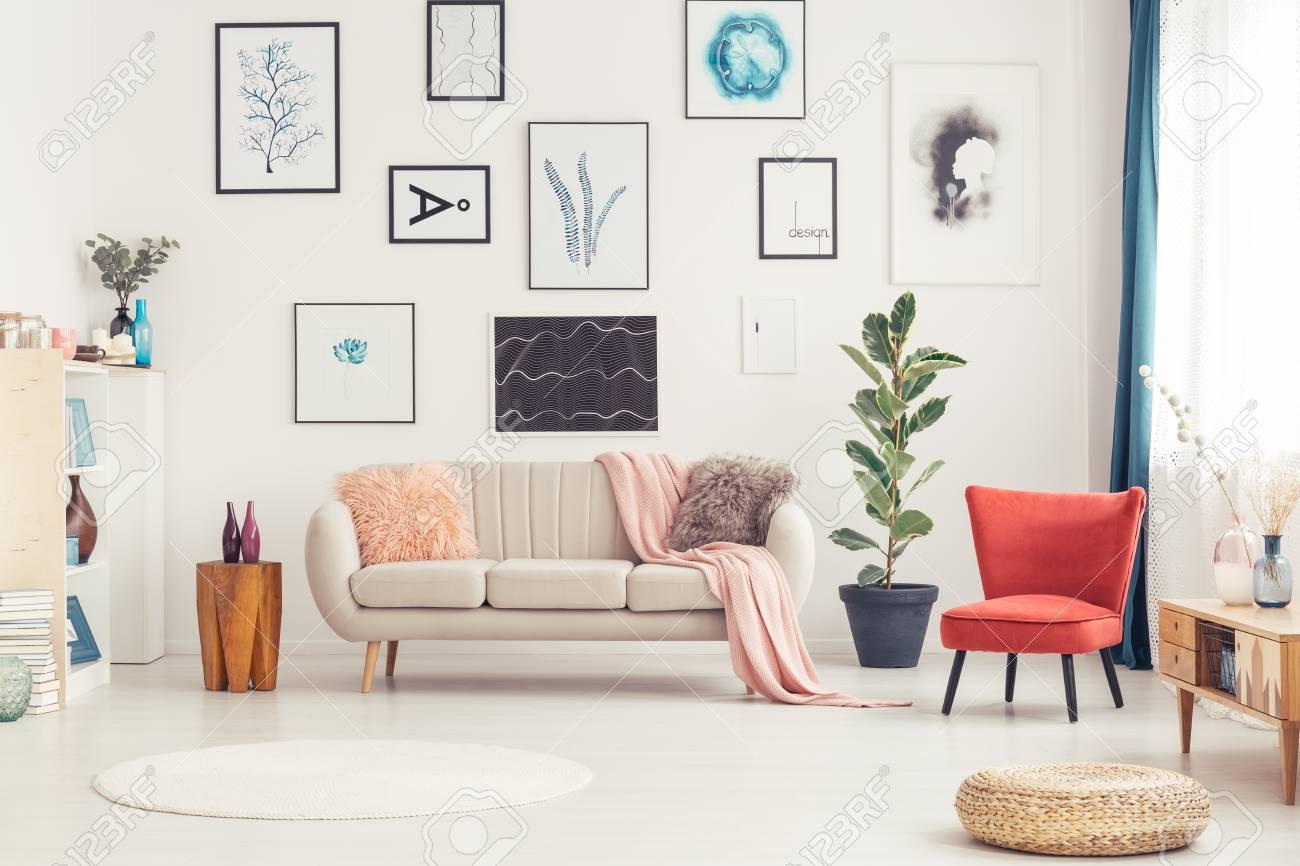biru: (134, 300, 152, 366)
coklat: (1156, 597, 1300, 789), (195, 560, 289, 694), (67, 476, 97, 565)
merah: (954, 482, 1136, 658)
pink: (332, 460, 476, 566), (714, 543, 811, 692), (52, 326, 78, 359)
